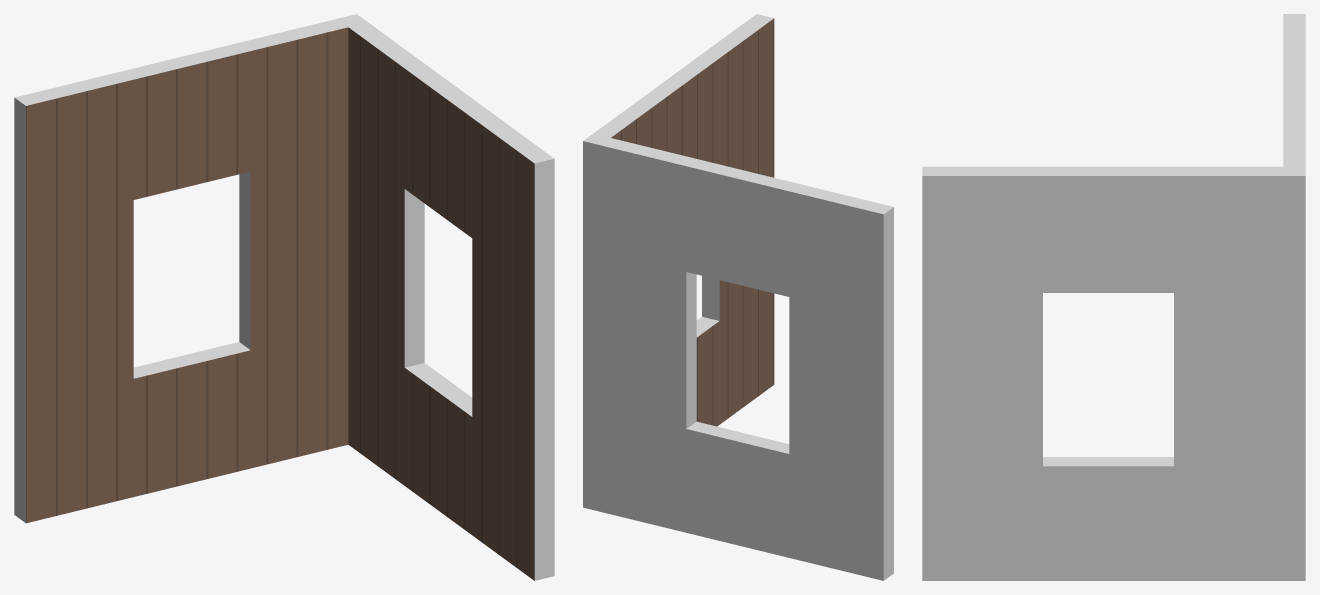
The model's file is Wall1_C9_09.fbx.
The picture shows the model from 3 angles, left to right: view 1: azimuth 30°, elevation 25°; view 2: azimuth 150°, elevation 25°; view 3: azimuth 270°, elevation 25°; orthographic projection. The views are drawn at different scales.
Parts seen in each view (by area): view 1: Wall1_C9_09; view 2: Wall1_C9_09; view 3: Wall1_C9_09.
Boxes of the visible parts, x1=… form: Wall1_C9_09: x1=14, y1=14, x2=554, y2=580; Wall1_C9_09: x1=583, y1=14, x2=893, y2=580; Wall1_C9_09: x1=922, y1=14, x2=1305, y2=580.
Size of the model in its own units: 258 by 300 by 258.
